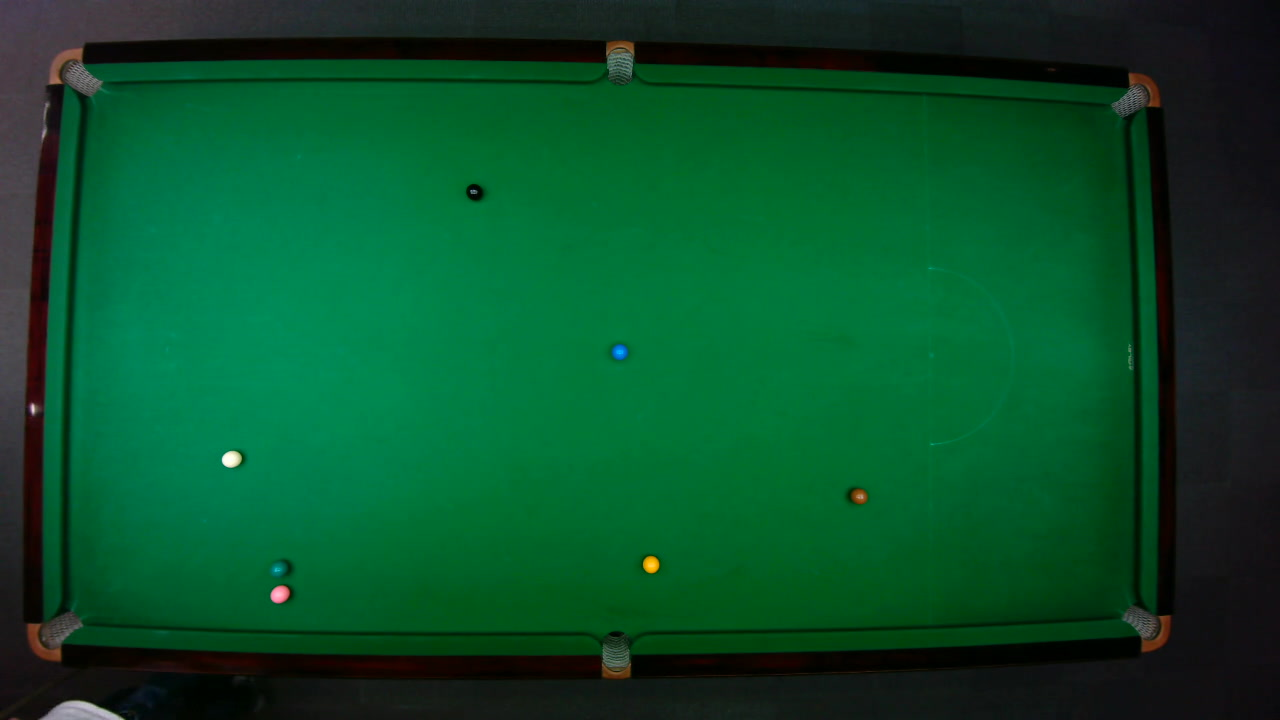bag: (25, 609, 83, 661), (46, 47, 102, 97), (1119, 603, 1171, 651), (1108, 71, 1161, 118), (601, 629, 630, 679), (605, 39, 633, 85)
black: (465, 183, 482, 200)
blue: (610, 342, 628, 360)
brown: (848, 486, 868, 504)
green: (268, 558, 289, 576)
pink: (268, 583, 290, 604)
white: (220, 449, 243, 468)
yellow: (641, 554, 660, 573)
zone: (927, 266, 1013, 445)
